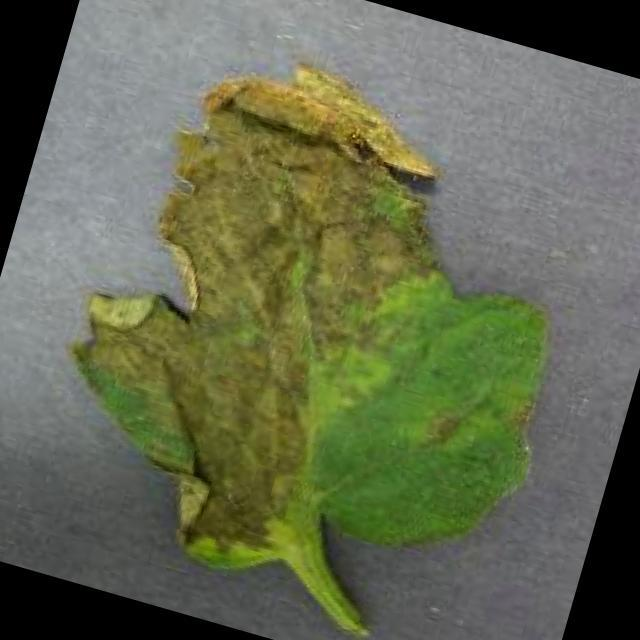Tomato bacterial spot leaf: (20, 21, 629, 640)
